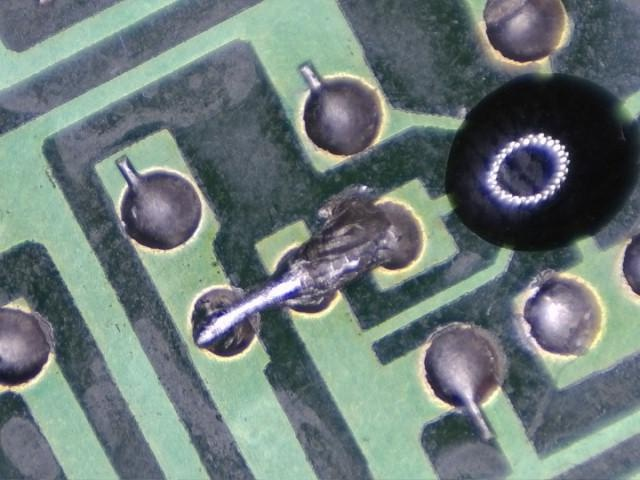pcb_defect: (197, 185, 393, 346)
